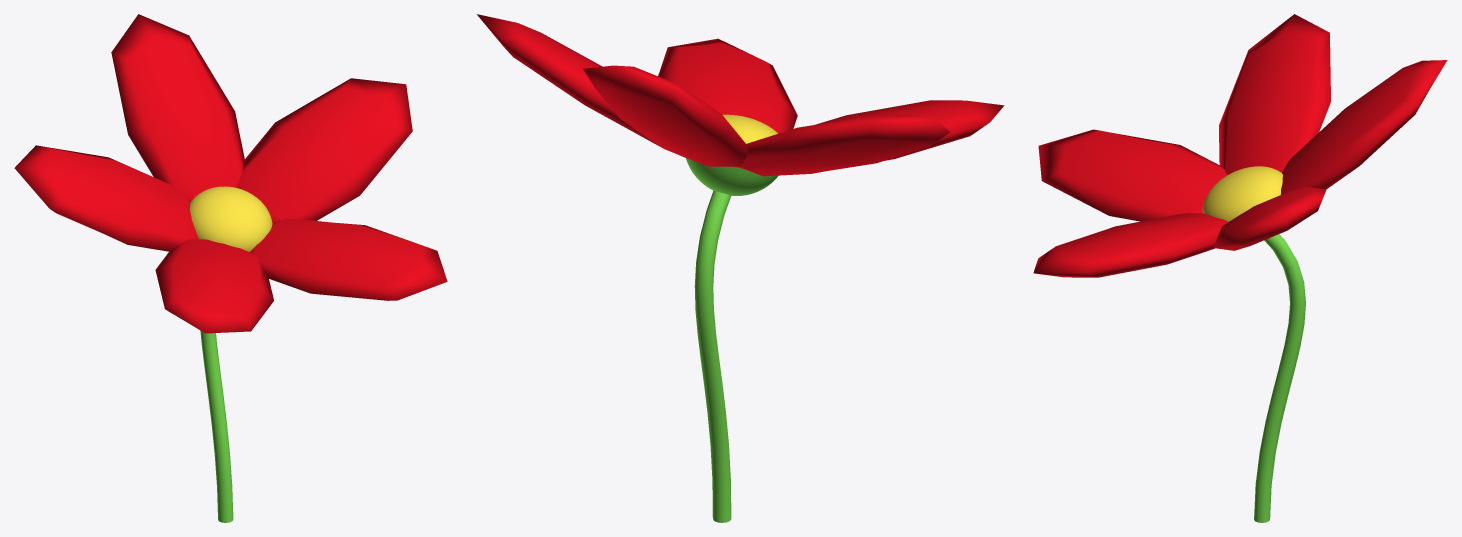
Rendered from Flower_7.fbx.
3 renders of one model, left to right at view 1: azimuth 30°, elevation 25°; view 2: azimuth 150°, elevation 25°; view 3: azimuth 270°, elevation 25°, orthographic. The views are drawn at different scales.
Visible parts, largest first — view 1: ベジエカーブ; view 2: ベジエカーブ; view 3: ベジエカーブ.
Boxes of the visible parts, x1=… form: ベジエカーブ: x1=14, y1=14, x2=447, y2=522; ベジエカーブ: x1=476, y1=14, x2=1004, y2=522; ベジエカーブ: x1=1033, y1=14, x2=1447, y2=522.
Bounding box in the file's own units: 359 × 389 × 317.
